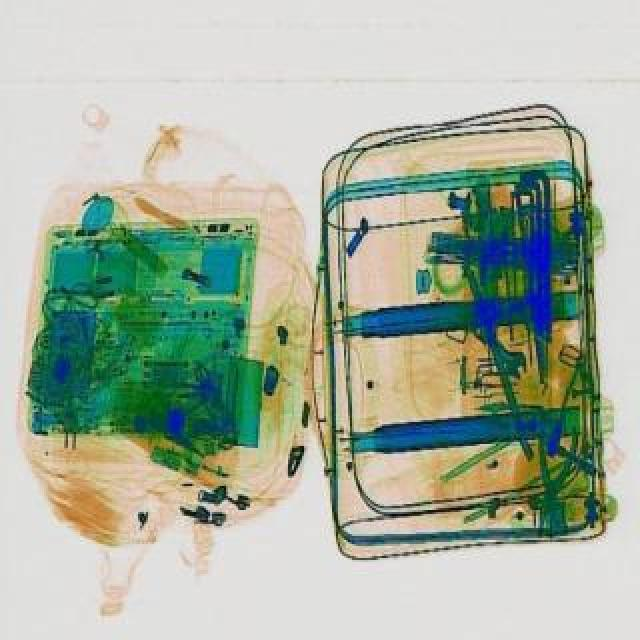scissors: (464, 316, 534, 380)
